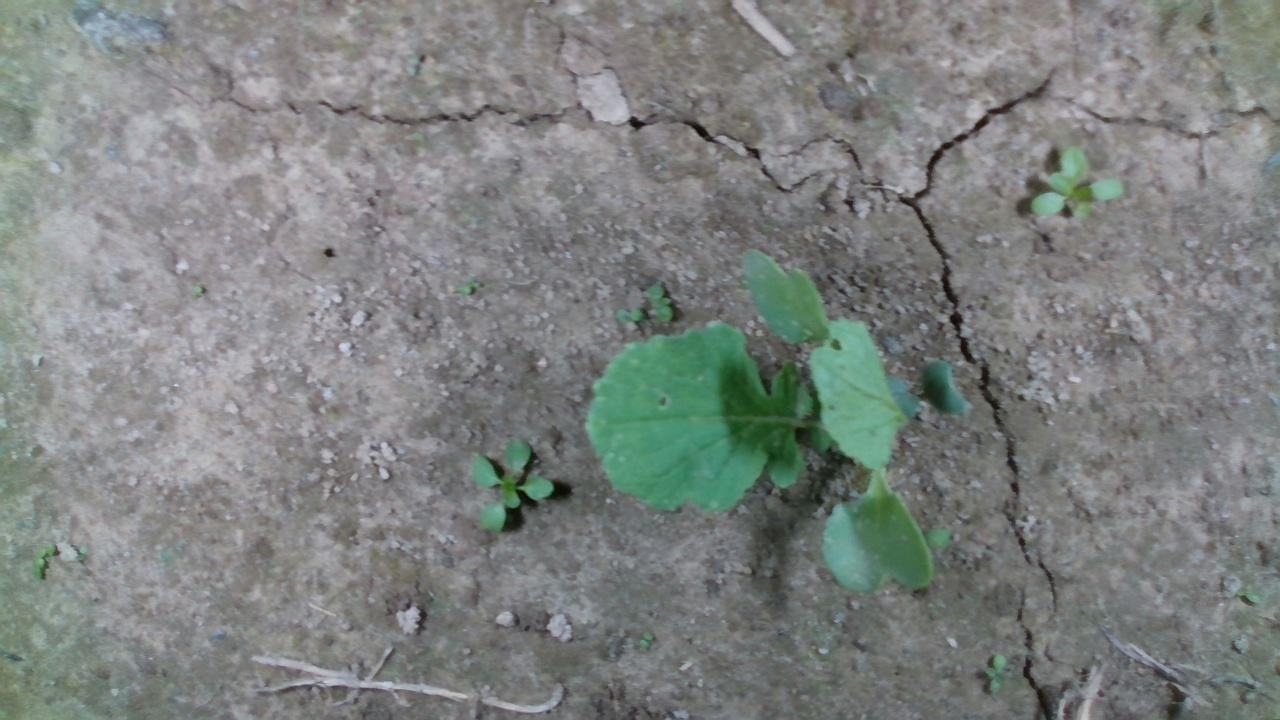weed: (982, 650, 1011, 692), (646, 281, 674, 322), (613, 305, 644, 322), (637, 629, 654, 650)
